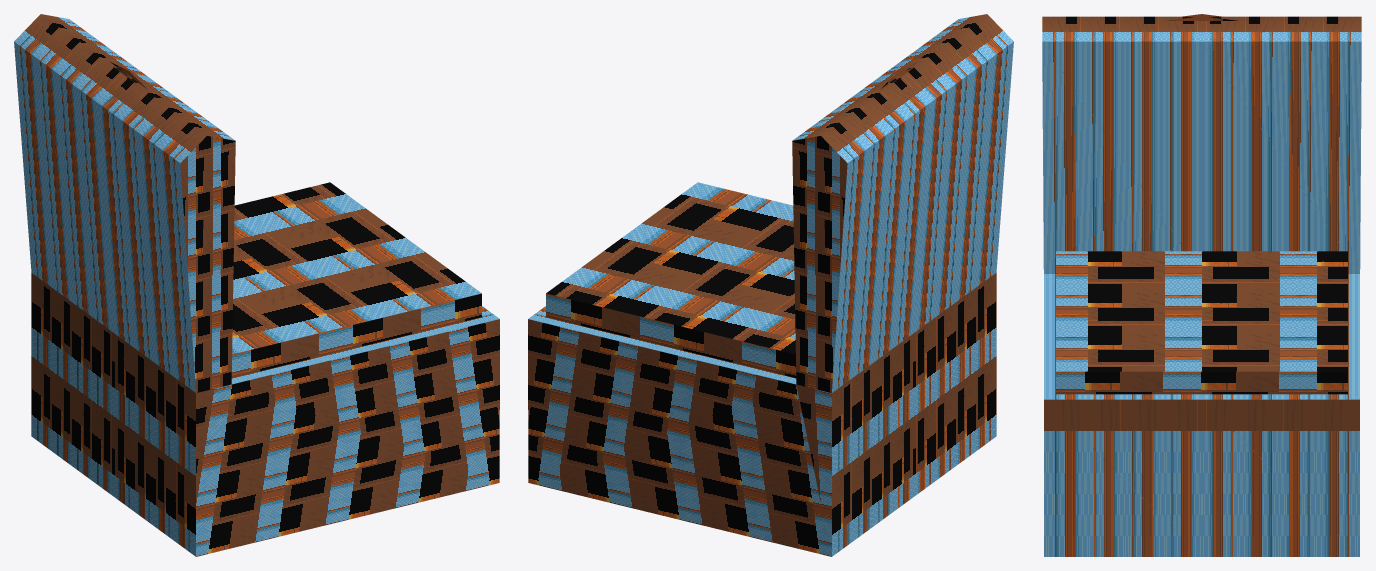
The model's file is 3573kg_14_isu.gltf.
3 views of the same model, side by side, from view 1: azimuth 30°, elevation 25°; view 2: azimuth 150°, elevation 25°; view 3: azimuth 270°, elevation 25° (orthographic). The views are drawn at different scales.
Parts seen in each view (by area): view 1: 3573kg_14_isu; view 2: 3573kg_14_isu; view 3: 3573kg_14_isu.
Boxes of the visible parts, bbox=[...] form: 3573kg_14_isu: bbox=[14, 14, 499, 556]; 3573kg_14_isu: bbox=[528, 14, 1013, 556]; 3573kg_14_isu: bbox=[1042, 14, 1361, 556].
Bounding box in the file's own units: 0.7869 × 0.9907 × 0.7075.
1 material, 1 textured.
